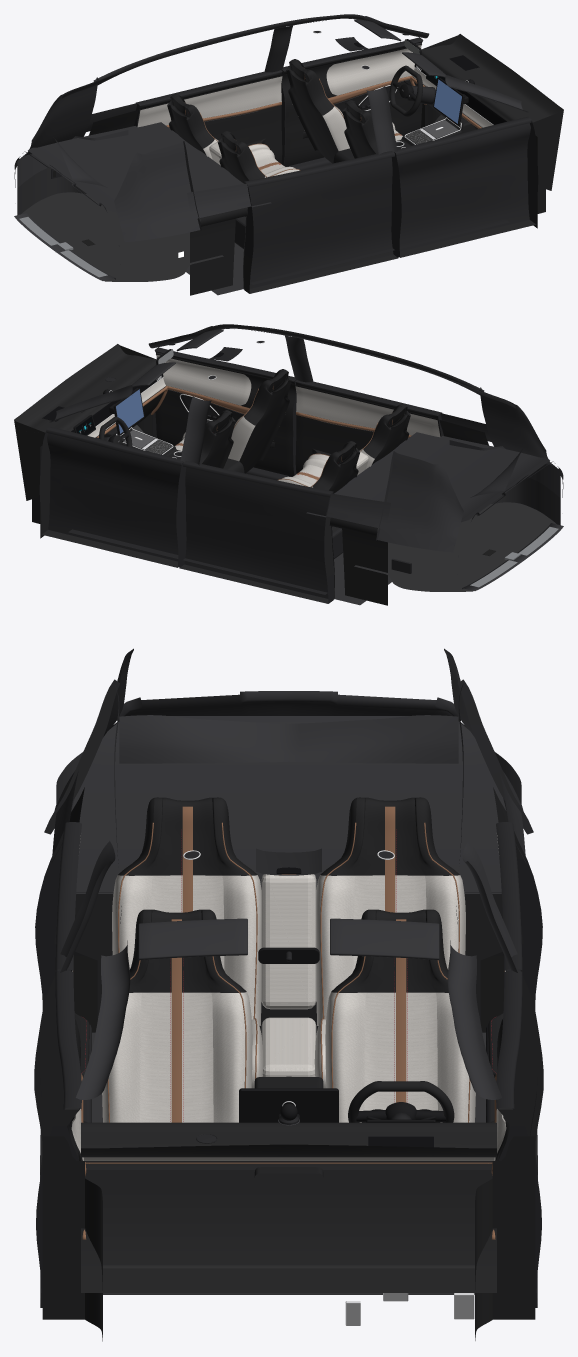
The model's file is nio-es8-interior.glb.
3 views of the same model, one above another, from view 1: azimuth 30°, elevation 25°; view 2: azimuth 150°, elevation 25°; view 3: azimuth 270°, elevation 25° (orthographic). The views are drawn at different scales.
Visible parts, largest first — view 1: NioES8_Cabin, int_rdoor_R, int_door_R, int_cpillar, int_door_L, int_parcel_shelf, int_rdoor_L, int_qtr_lower, screen_main, int_rear_sill, int_headliner; view 2: NioES8_Cabin, int_rdoor_L, int_door_L, int_cpillar, int_door_R, int_parcel_shelf, int_rdoor_R, int_qtr_lower, screen_main, int_rear_sill, int_headliner; view 3: NioES8_Cabin, int_parcel_shelf, int_rear_sill, int_door_L, int_door_R, int_tailgate, int_rdoor_R, int_rdoor_L, int_cpillar_flange, int_cpillar, int_qtr_lower.
Part boxes in pixels (x1,y1,x2,y2): NioES8_Cabin: (14, 14, 563, 295); int_rdoor_R: (243, 151, 400, 293); int_door_R: (394, 117, 538, 257); int_cpillar: (25, 80, 200, 242); int_door_L: (281, 37, 423, 166); int_parcel_shelf: (28, 122, 271, 212); int_rdoor_L: (134, 70, 282, 163); int_qtr_lower: (86, 103, 251, 219); screen_main: (434, 79, 461, 123); int_rear_sill: (55, 139, 107, 187); int_headliner: (62, 18, 358, 98); NioES8_Cabin: (14, 324, 563, 605); int_rdoor_L: (177, 461, 334, 603); int_door_L: (39, 427, 183, 567); int_cpillar: (377, 390, 552, 552); int_door_R: (154, 347, 296, 476); int_parcel_shelf: (306, 432, 549, 522); int_rdoor_R: (295, 380, 443, 473); int_qtr_lower: (326, 413, 491, 529); screen_main: (116, 389, 143, 433); int_rear_sill: (470, 449, 522, 497); int_headliner: (219, 328, 515, 408); NioES8_Cabin: (40, 684, 537, 1341); int_parcel_shelf: (71, 716, 506, 893); int_rear_sill: (119, 715, 458, 763); int_door_L: (490, 970, 543, 1307); int_door_R: (34, 970, 87, 1307); int_tailgate: (112, 691, 465, 727); int_rdoor_R: (34, 822, 89, 1172); int_rdoor_L: (488, 822, 543, 1172); int_cpillar_flange: (44, 679, 533, 834); int_cpillar: (54, 648, 523, 810); int_qtr_lower: (52, 771, 525, 862).
Bounding box in the file's own units: 3.87 × 1.4 × 1.86.
Materials: 29 (3 with a texture image).
